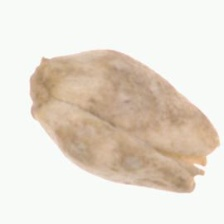L1: (162, 135, 222, 194), (27, 54, 53, 116)
L2: (28, 49, 220, 194)
